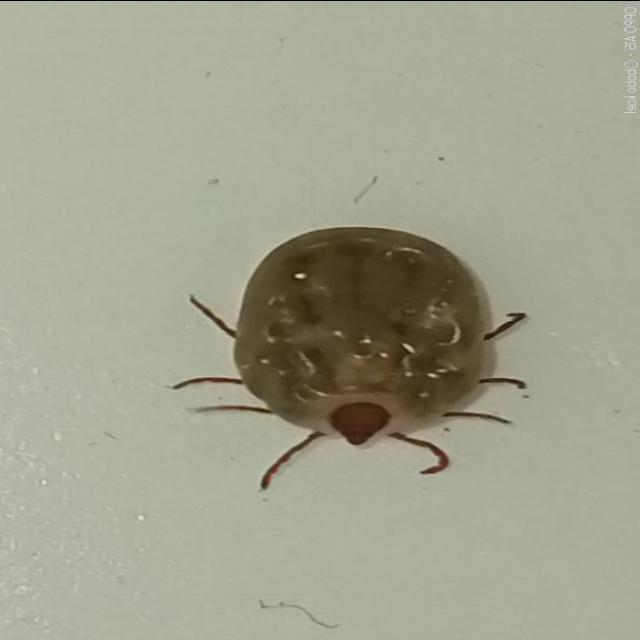Rhipicephalus Sanguineus-F-Fed: (169, 225, 532, 487)
